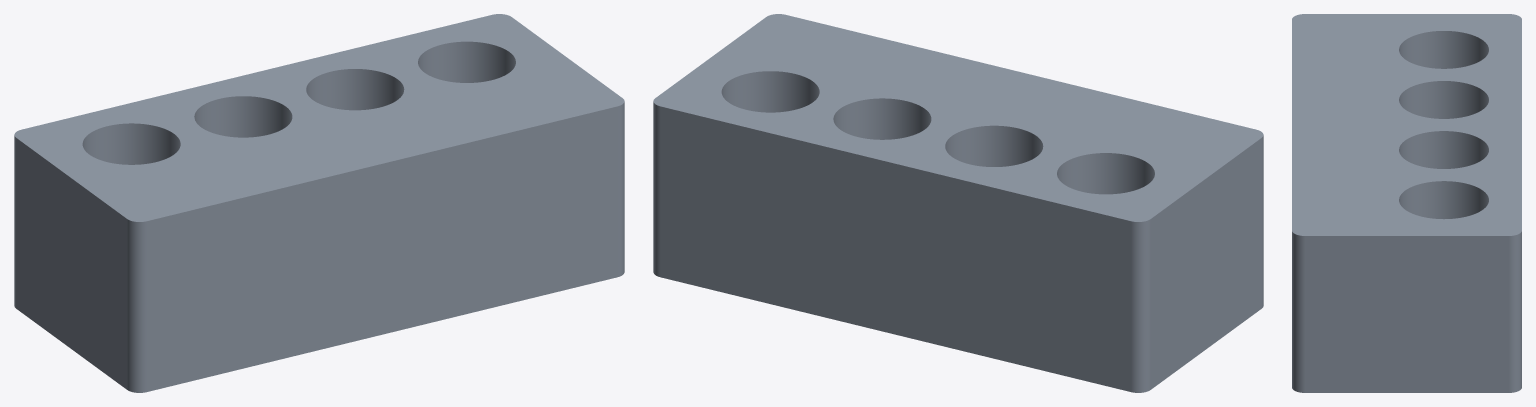
Rendered from step_03.glb.
3 renders of one model, left to right at view 1: azimuth 30°, elevation 25°; view 2: azimuth 150°, elevation 25°; view 3: azimuth 270°, elevation 25°, orthographic. The views are drawn at different scales.
Parts seen in each view (by area): view 1: part__cylinder block (deck); view 2: part__cylinder block (deck); view 3: part__cylinder block (deck).
Part boxes in pixels (box(x1,y1,x2,y2)): part__cylinder block (deck): box(14, 14, 624, 392); part__cylinder block (deck): box(653, 14, 1263, 392); part__cylinder block (deck): box(1292, 14, 1521, 392).
Bounding box in the file's own units: 546 × 180 × 239.
